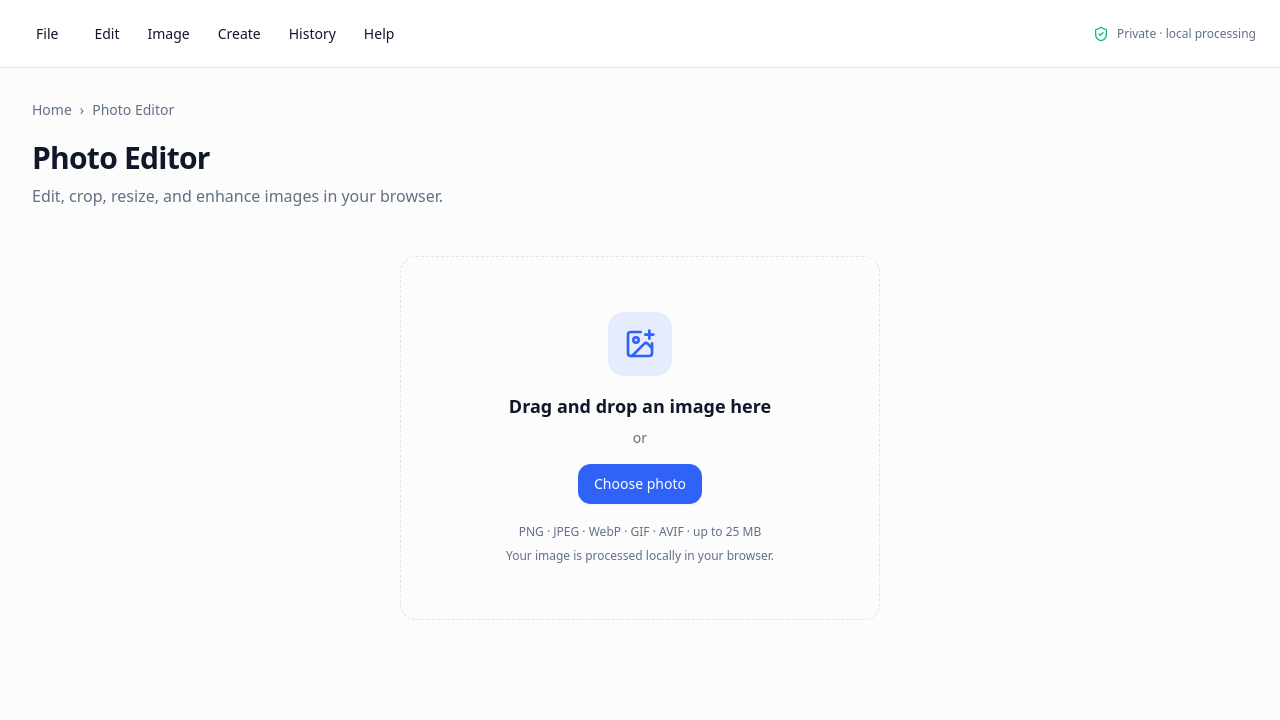
Test case: PhotoEditor workspace UX acceptance › renders categorized editor menus and a theme-aware empty canvas
expect the button "File" is shown: met, box x1=24 y1=16 x2=70 y2=52
expect the button "Image" is shown: met, box x1=136 y1=16 x2=202 y2=52
Click the button "Edit". click: (107, 34)
box: x1=82 y1=16 x2=132 y2=52
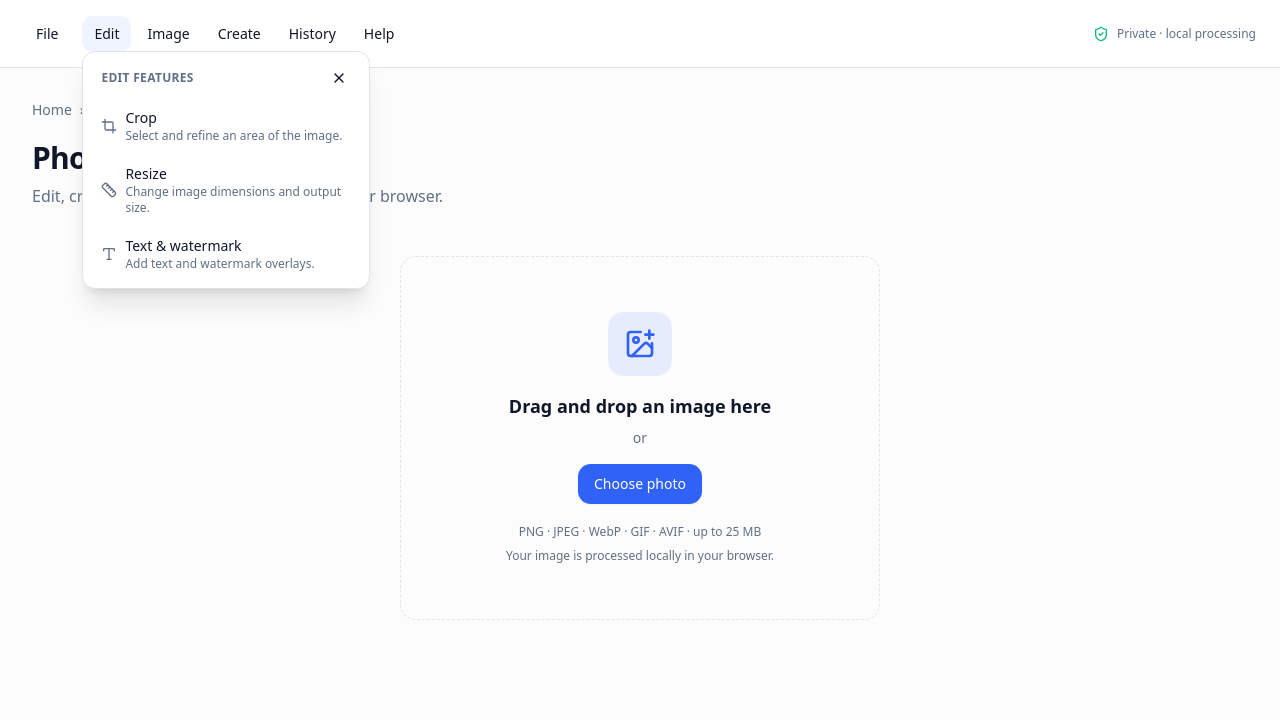
expect the button "Crop" is shown: met, box x1=89 y1=98 x2=363 y2=154
expect the button "Resize" is shown: met, box x1=89 y1=154 x2=363 y2=226
expect the button "Text & watermark" is shown: met, box x1=89 y1=226 x2=363 y2=282
Click the button "Image". click: (169, 34)
box: x1=136 y1=16 x2=202 y2=52
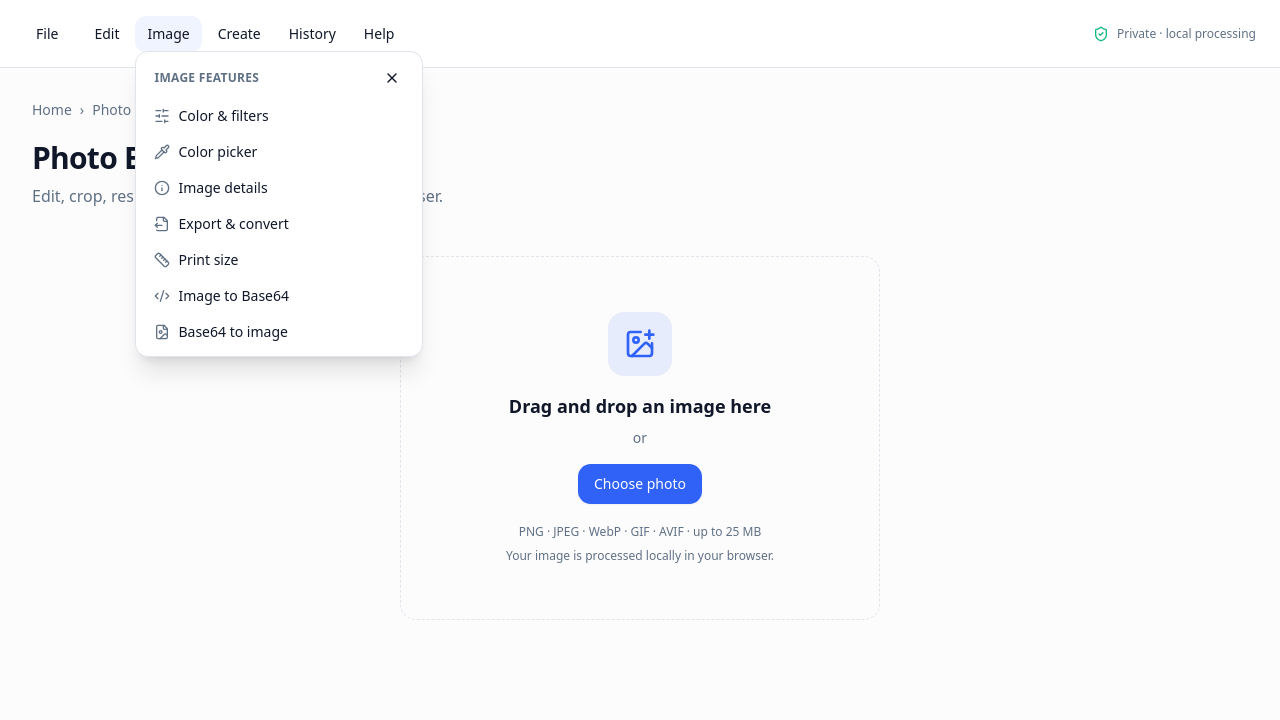
expect the button "Color & filters" is shown: met, box x1=142 y1=98 x2=416 y2=134
expect the button "Color picker" is shown: met, box x1=142 y1=134 x2=416 y2=170
expect the button "Image details" is shown: met, box x1=142 y1=170 x2=416 y2=206
Click the button "Create". click: (239, 34)
box: x1=206 y1=16 x2=273 y2=52
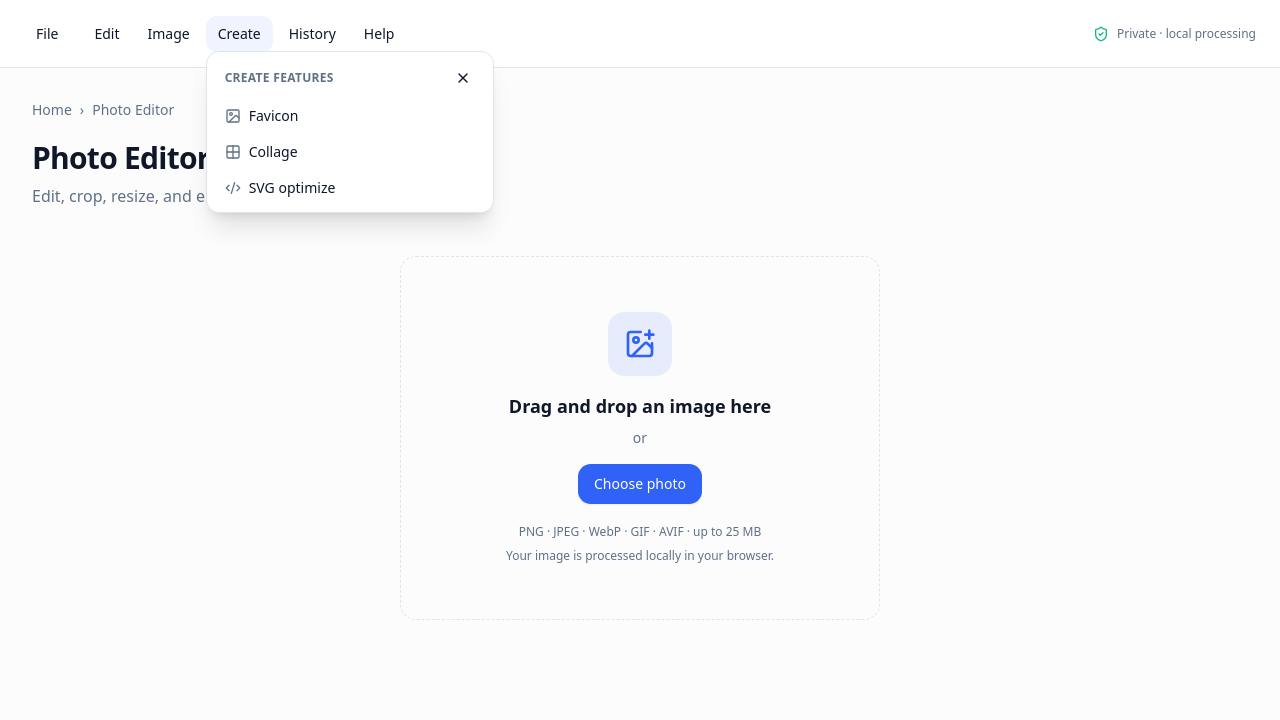
expect the button "Favicon" is shown: met, box x1=213 y1=98 x2=487 y2=134
expect the button "Collage" is shown: met, box x1=213 y1=134 x2=487 y2=170
expect the button "SVG optimize" is shown: met, box x1=213 y1=170 x2=487 y2=206
